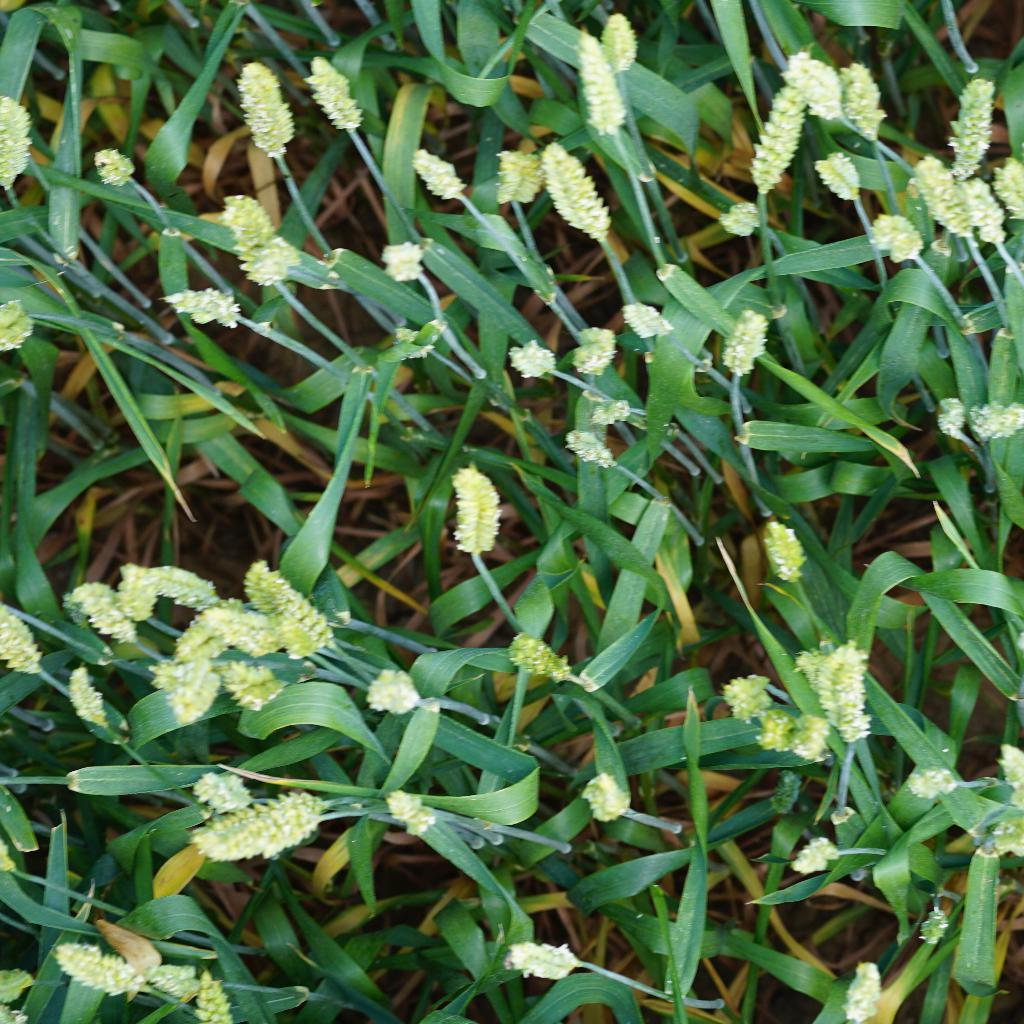0-0: (179, 791, 337, 861), (240, 556, 346, 659), (537, 138, 613, 250), (218, 194, 301, 289), (566, 27, 632, 142), (752, 82, 811, 209), (233, 59, 298, 167), (190, 598, 296, 661), (816, 640, 872, 749), (948, 75, 997, 189), (303, 51, 364, 139), (449, 465, 501, 566), (239, 809, 341, 860), (914, 155, 974, 240), (68, 583, 144, 650), (833, 57, 883, 155), (170, 653, 230, 733), (783, 58, 850, 128), (47, 942, 140, 992), (168, 612, 237, 672), (162, 284, 249, 331), (719, 308, 770, 388), (63, 663, 117, 735), (754, 518, 810, 587), (954, 181, 1008, 252), (485, 146, 543, 210), (0, 603, 47, 679), (505, 631, 572, 684), (361, 659, 421, 718), (111, 559, 161, 628), (221, 665, 294, 712), (810, 151, 867, 211), (0, 90, 32, 195), (141, 562, 219, 605), (411, 148, 469, 205), (377, 787, 444, 836), (619, 300, 685, 349), (498, 941, 580, 979), (969, 795, 1024, 851), (787, 709, 840, 766), (872, 213, 926, 268), (970, 396, 1024, 450), (559, 429, 623, 474), (186, 771, 257, 811), (840, 959, 883, 1024), (193, 970, 242, 1024), (722, 671, 774, 721), (136, 961, 205, 998), (571, 324, 615, 381), (602, 9, 639, 76), (902, 762, 965, 801), (504, 340, 562, 382), (989, 156, 1024, 224), (580, 772, 629, 820), (379, 239, 429, 286), (88, 150, 143, 191), (753, 704, 798, 754), (797, 645, 835, 699), (715, 201, 769, 238), (762, 770, 802, 813), (790, 838, 843, 869), (144, 659, 189, 695), (934, 394, 964, 444), (585, 396, 633, 425), (919, 900, 948, 947)
